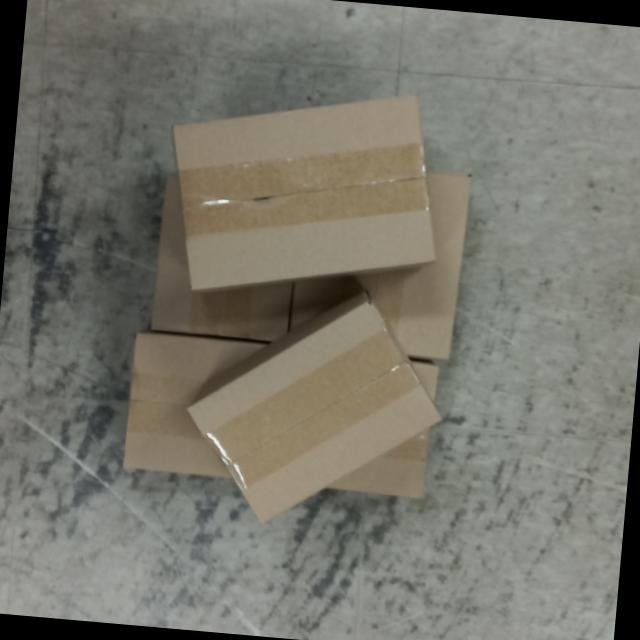box: (150, 66, 456, 314), (172, 281, 458, 543)
